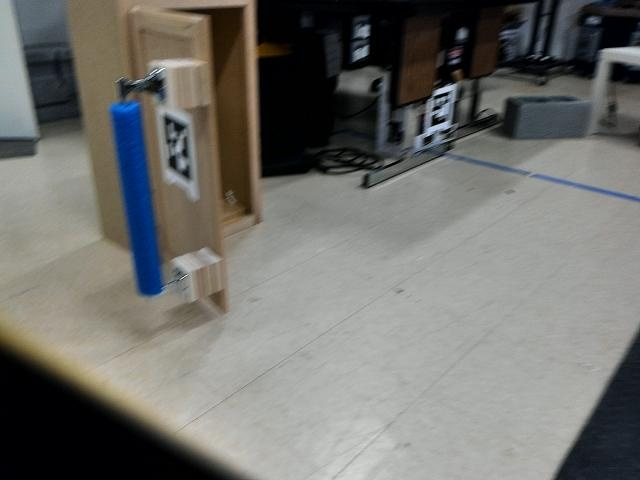noodle_handle: (107, 92, 170, 301)
